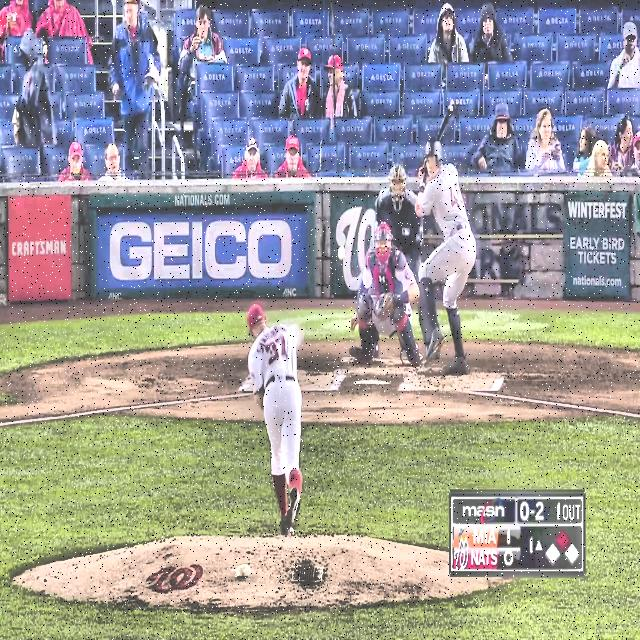baseball: (337, 245, 346, 261)
